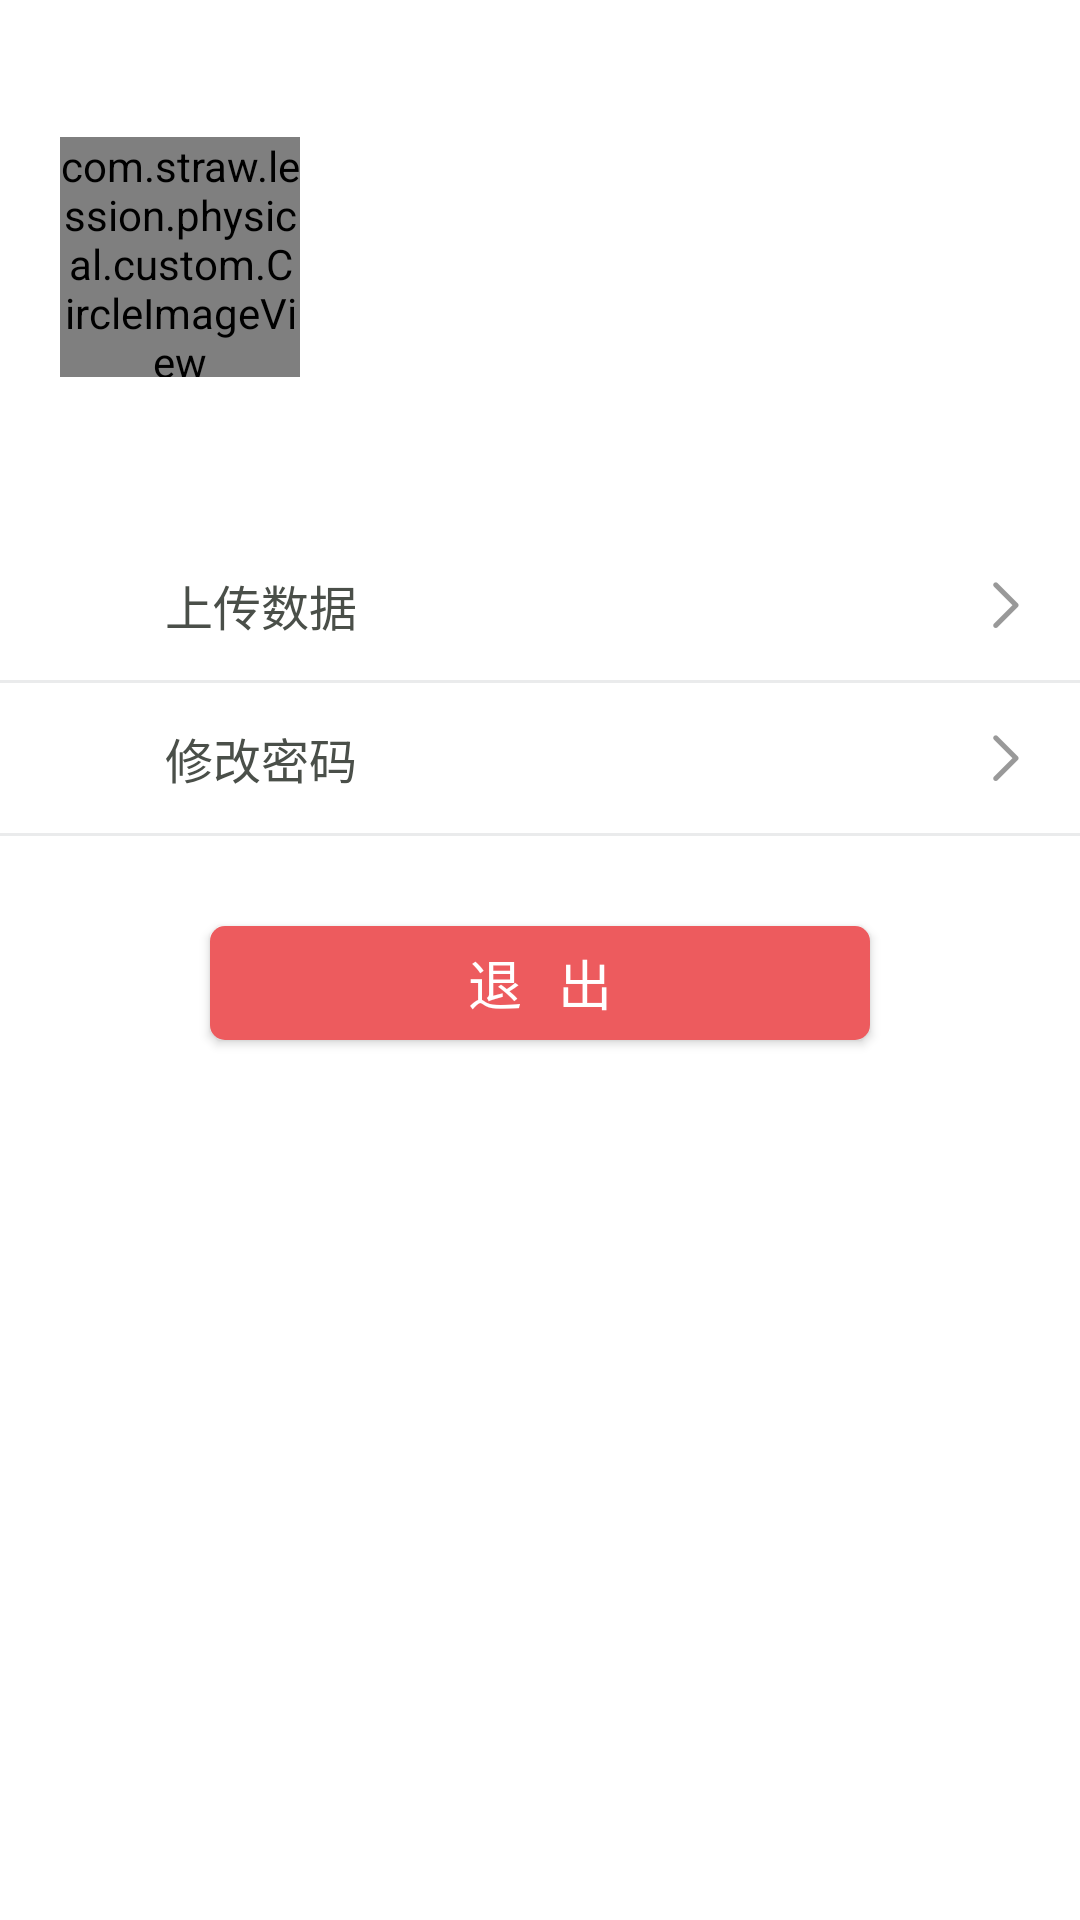

Where icons sit on this 1080*1920 app screen, as BBox(x1, y1, x2, y2):
right arrow: BBox(993, 582, 1019, 628), BBox(993, 735, 1019, 781)
